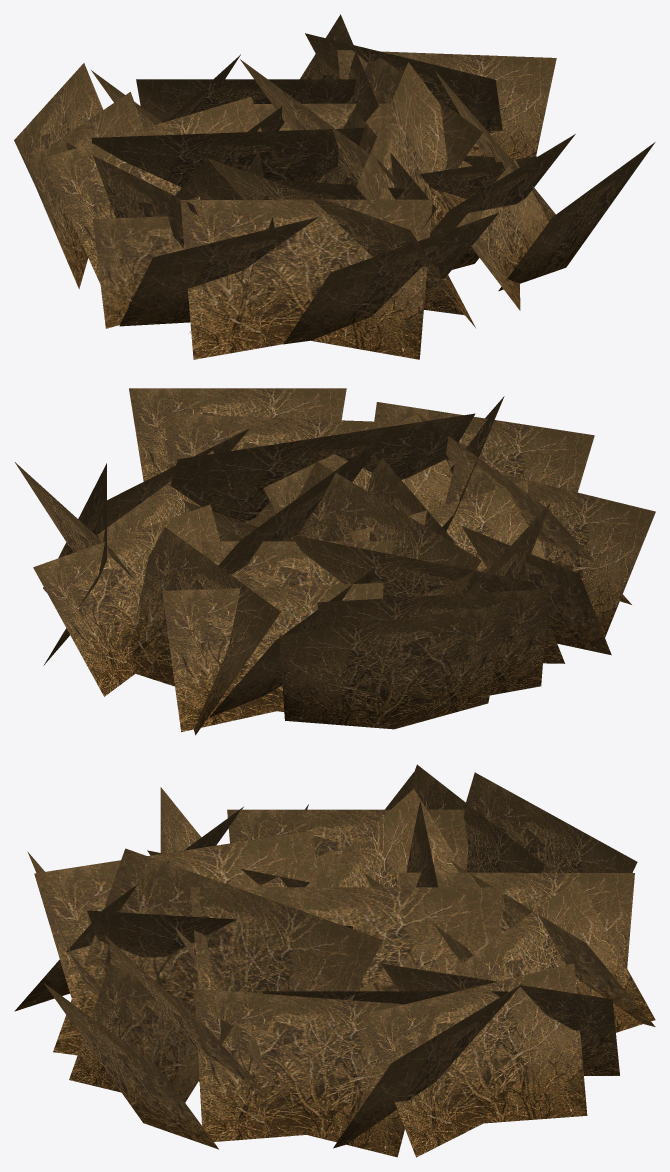
File: grass102.glb
3 renders of one model, top to bottom at view 1: azimuth 30°, elevation 25°; view 2: azimuth 150°, elevation 25°; view 3: azimuth 270°, elevation 25°, orthographic. The views are drawn at different scales.
Parts seen in each view (by area): view 1: grass102; view 2: grass102; view 3: grass102.
Part boxes in pixels (left/top/right/bottom): grass102: left=14, top=14, right=655, bottom=359; grass102: left=15, top=388, right=655, bottom=735; grass102: left=14, top=764, right=655, bottom=1157.
Bounding box in the file's own units: 5.45 × 1.4 × 5.21.
1 material, 1 textured.
